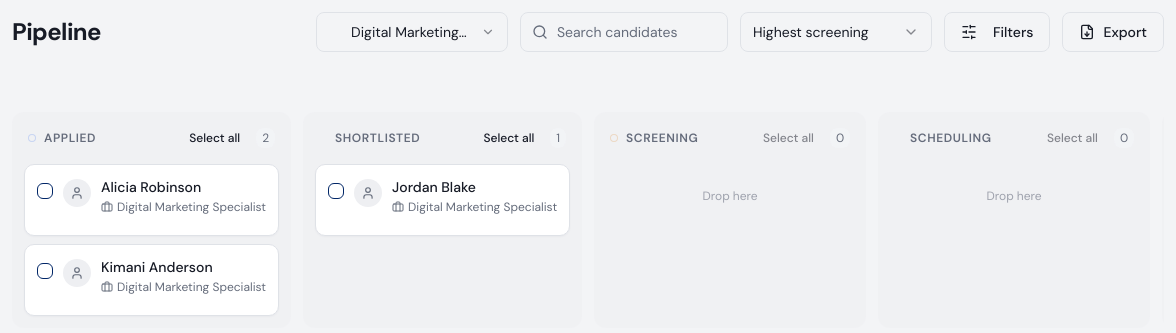
Pipeline batch stage movement › omits the source and rejected stages from batch destinations
Step 1. Click the checkbox named "Select Alicia Robinson" → (45,191), box x1=37 y1=183 x2=53 y2=199
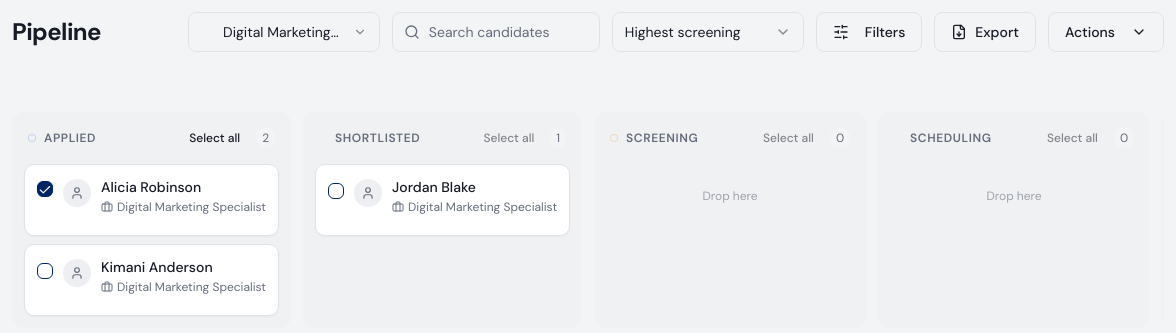
Step 2. Press ArrowDown in the button "Actions", box x1=1048 y1=12 x2=1164 y2=52
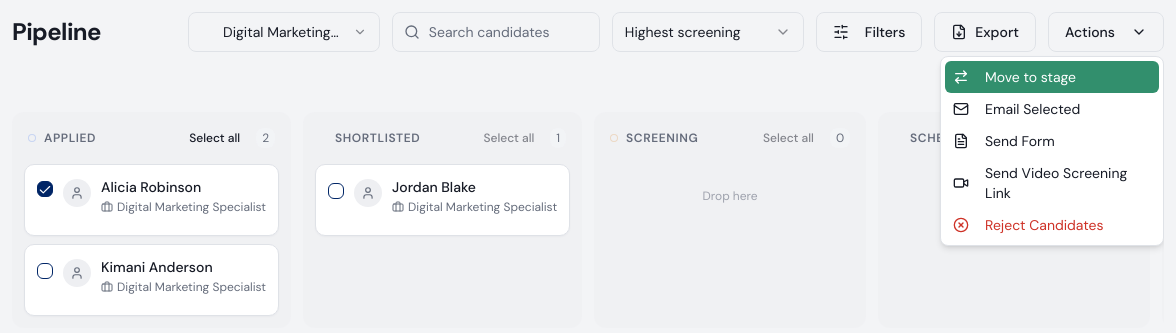
Step 3. Press ArrowRight in the menu item "Move to stage", box x1=945 y1=61 x2=1159 y2=93
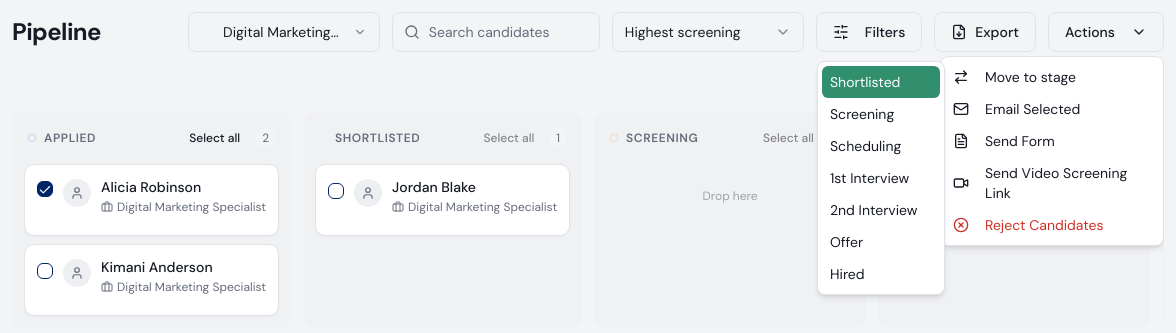
Check: the menu item "Shortlisted" is shown, box x1=822 y1=66 x2=940 y2=98
